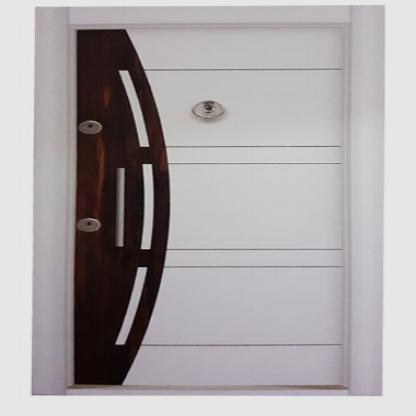door: (76, 29, 347, 385)
